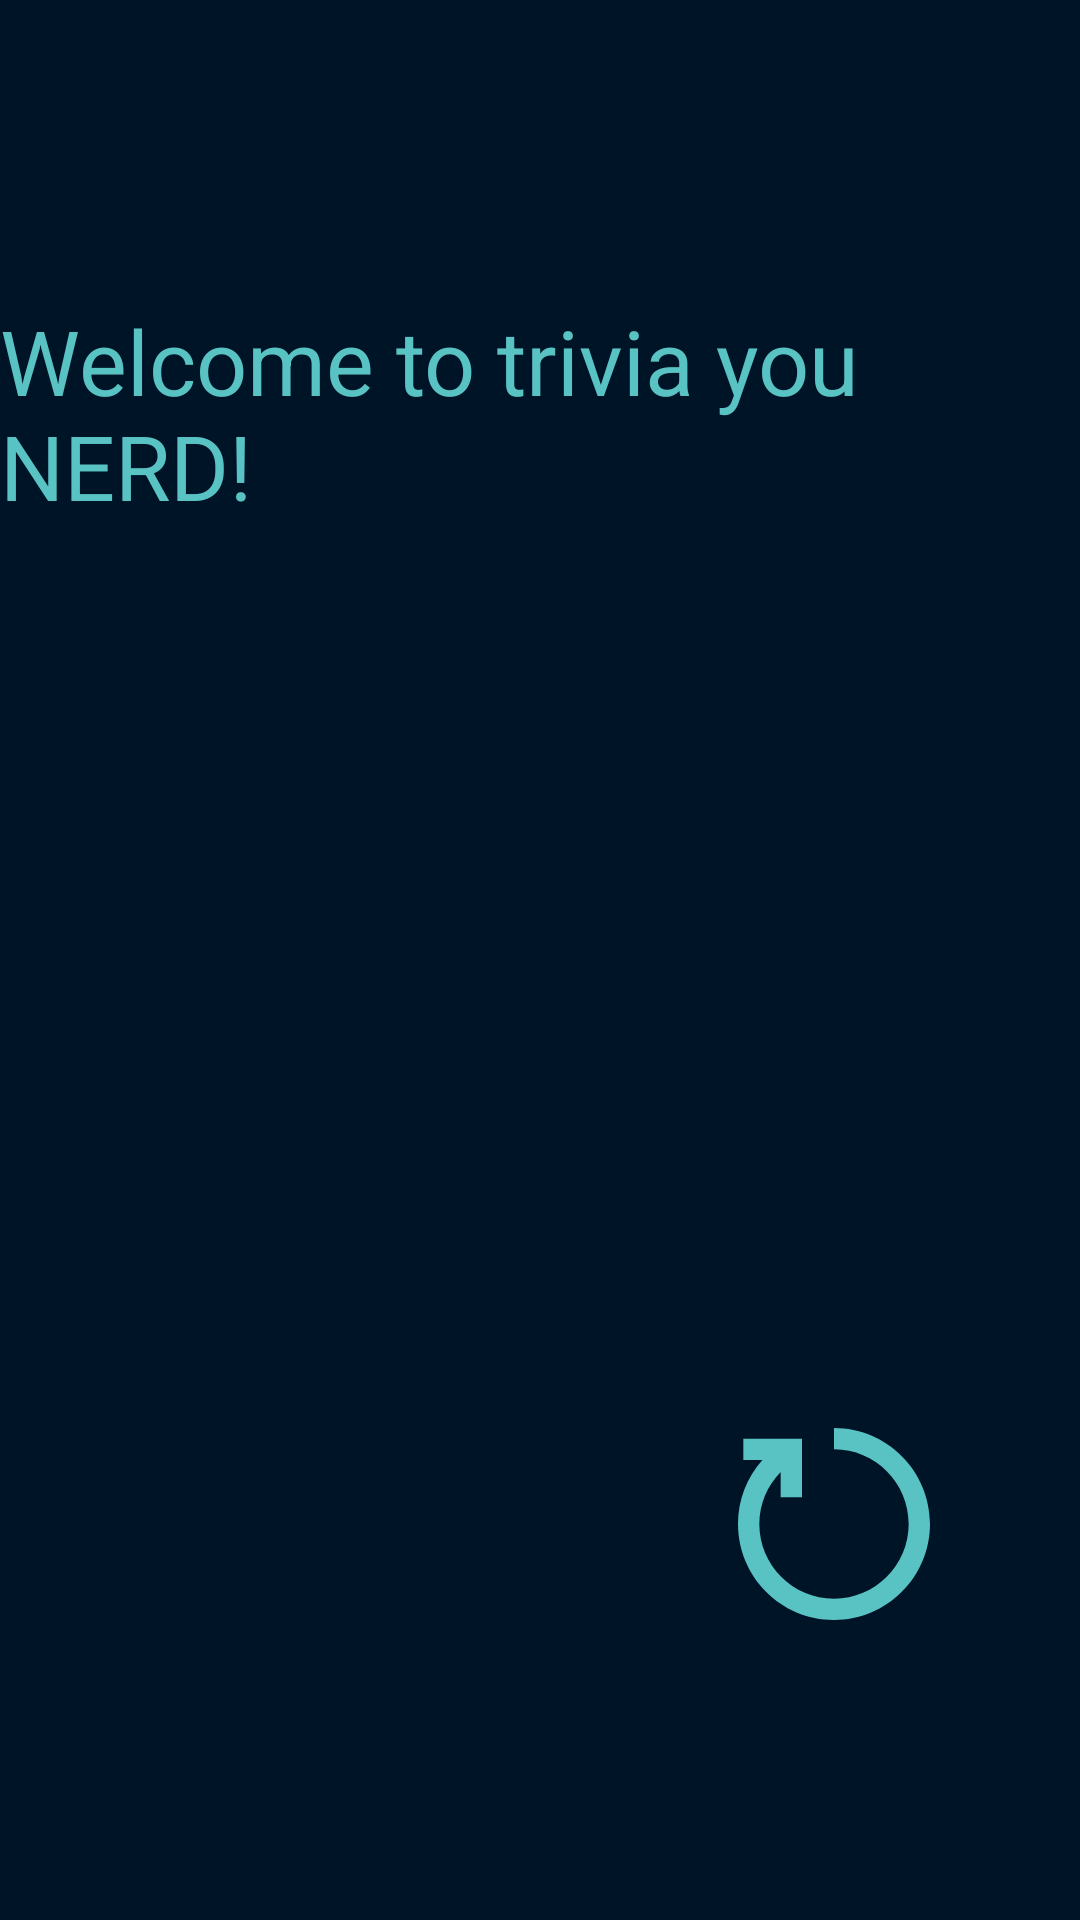

Locate icon controls on the screen. Image size 1080 x 1920, boxes as Rect(x1, y1, x2, y2).
reset trivia: Rect(738, 1428, 930, 1620)
